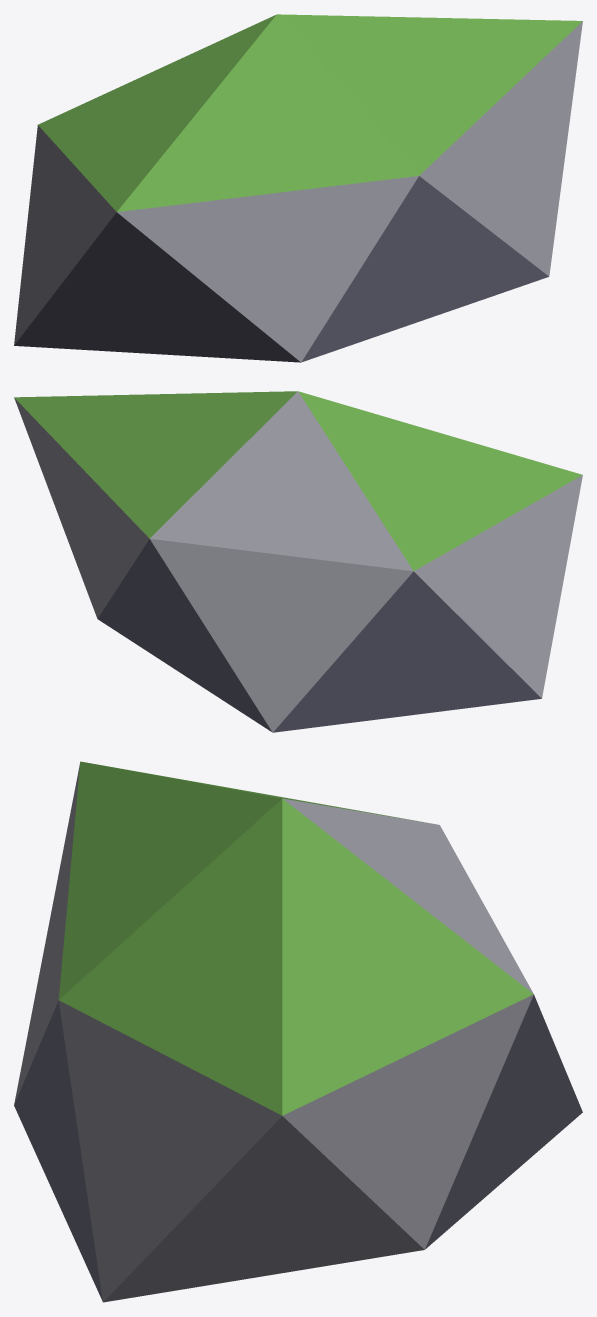
File: RockSmall.fbx
3 views of the same model, one above another, from view 1: azimuth 30°, elevation 25°; view 2: azimuth 150°, elevation 25°; view 3: azimuth 270°, elevation 25° (orthographic). The views are drawn at different scales.
Parts seen in each view (by area): view 1: RockSmall; view 2: RockSmall; view 3: RockSmall.
Part boxes in pixels (box(x1,y1,x2,y2)): RockSmall: box(14, 14, 582, 362); RockSmall: box(14, 391, 582, 732); RockSmall: box(14, 761, 582, 1302).
Bounding box in the file's own units: 1.34 × 0.6515 × 0.8413.
1 material, 1 textured.
